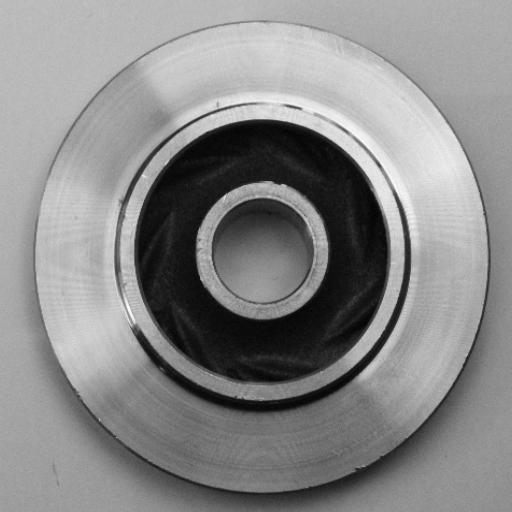unpolished_casting: (32, 17, 492, 498)
